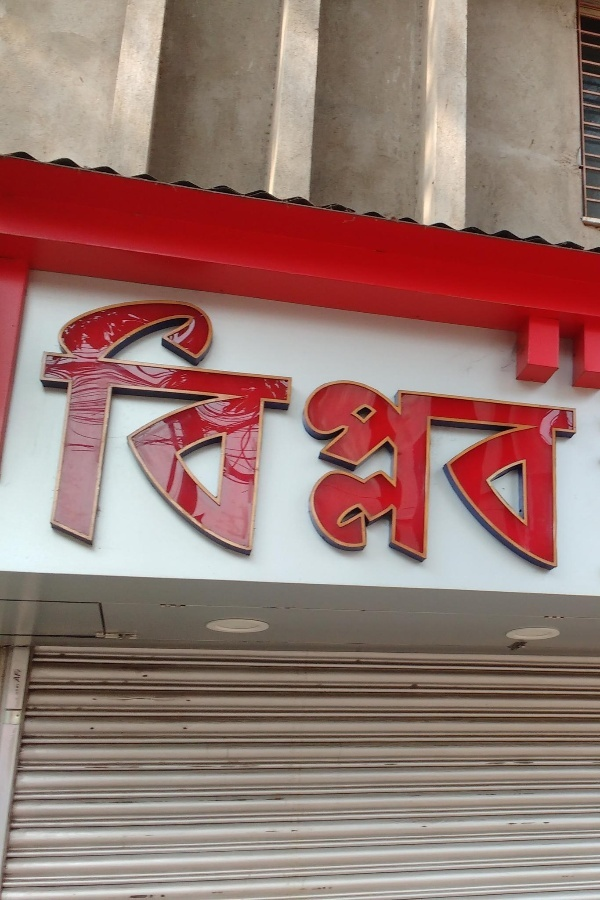text: (49, 265, 64, 586), (65, 265, 80, 586), (81, 265, 96, 586), (97, 265, 112, 586), (113, 265, 128, 586), (129, 265, 144, 586), (145, 265, 160, 586), (161, 265, 176, 586), (177, 265, 192, 586), (193, 265, 208, 586), (209, 265, 224, 586), (225, 265, 240, 586), (241, 265, 256, 586), (257, 265, 272, 586), (273, 265, 288, 586), (289, 265, 304, 586), (305, 265, 320, 586), (321, 265, 336, 586), (337, 265, 352, 586), (353, 265, 368, 586), (369, 265, 384, 586), (385, 265, 400, 586), (401, 265, 416, 586), (417, 265, 432, 586), (433, 265, 448, 586), (449, 265, 464, 586), (465, 265, 480, 586), (481, 265, 496, 586), (497, 265, 512, 586), (513, 265, 528, 586), (529, 265, 544, 586), (545, 265, 560, 586), (561, 265, 576, 586), (577, 265, 589, 586), (43, 265, 48, 586)
